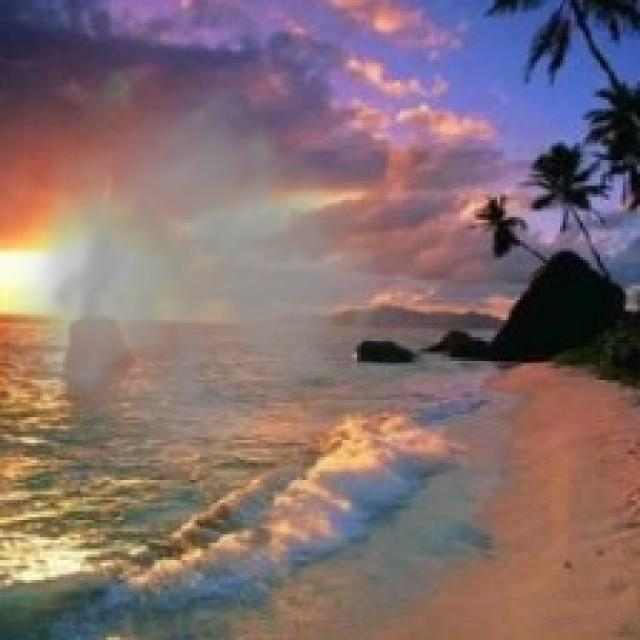smoke: (8, 71, 426, 492)
